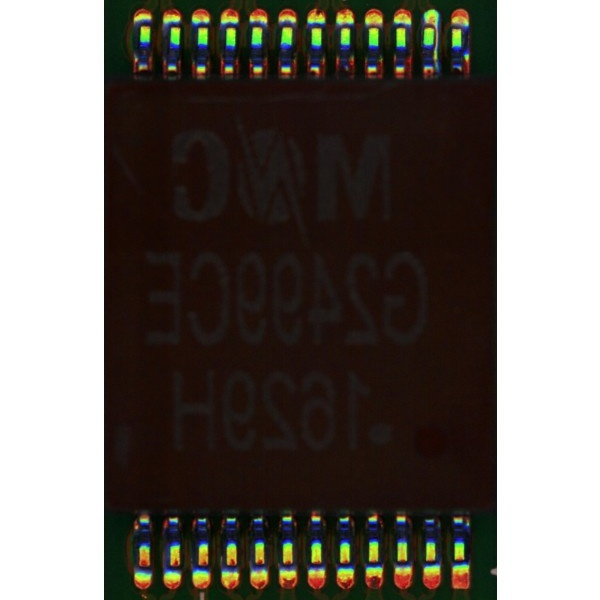Bad_podu: (426, 18, 436, 36)
Bad_qiaojiao: (434, 29, 439, 75)
